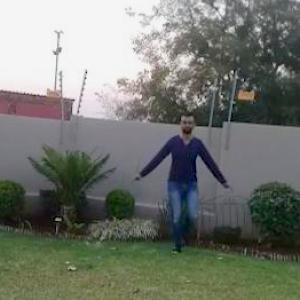land: (130, 116, 236, 255)
